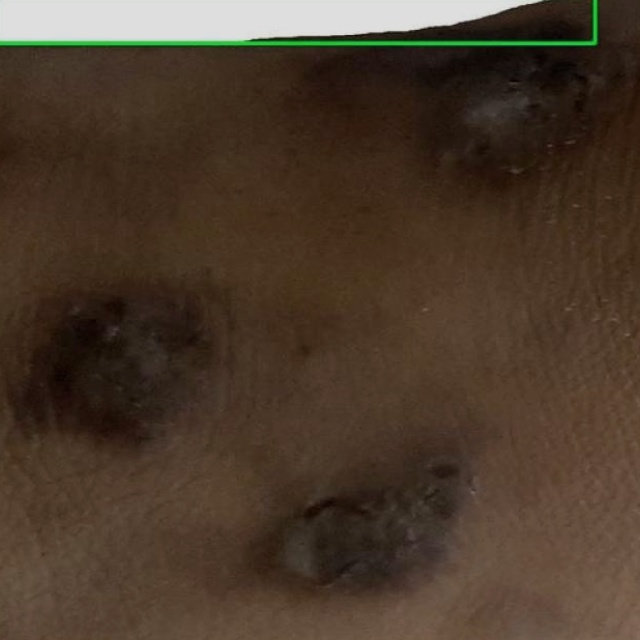Contact Dermatitis: (0, 0, 595, 43)
